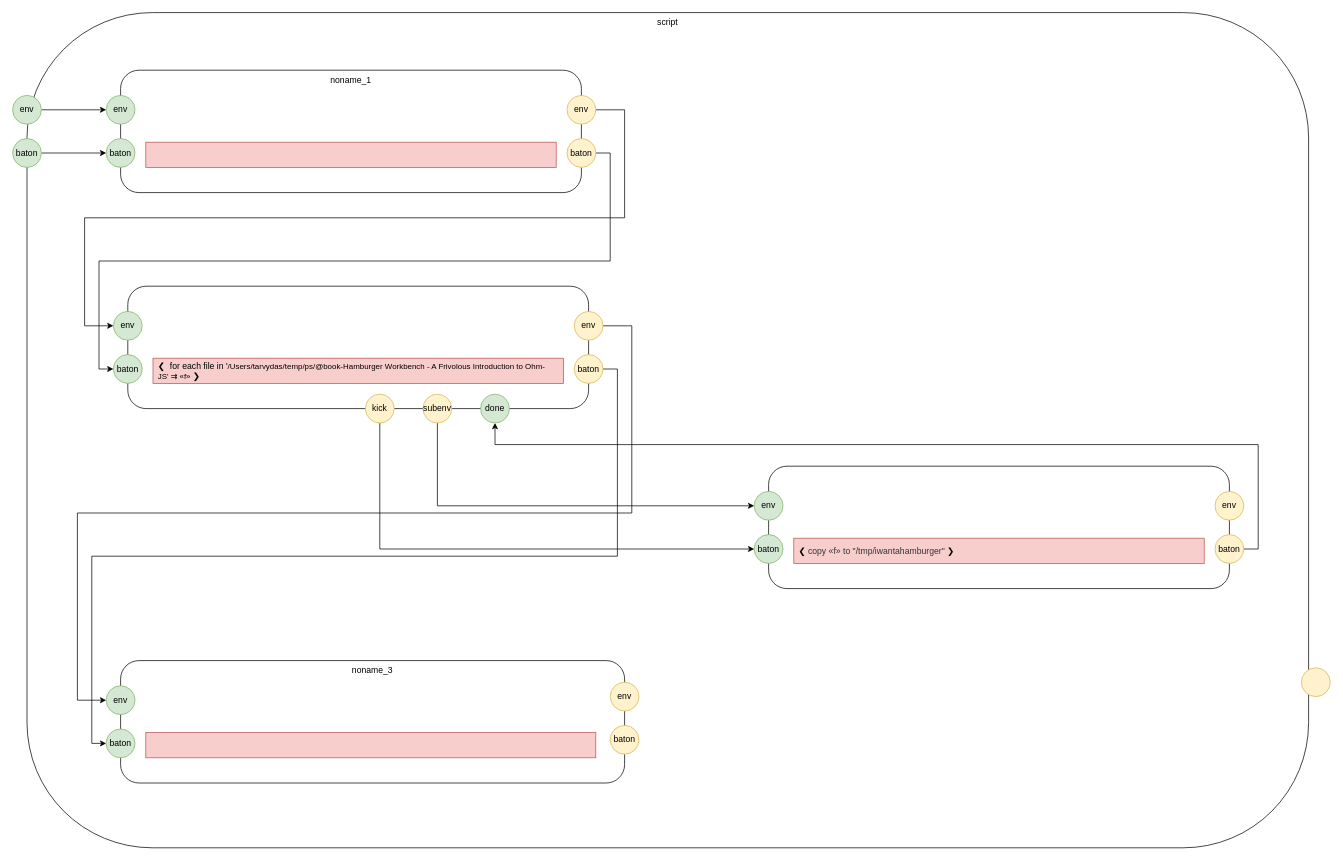
This 1343x860 diagram has some shape labels left out. Each missing label, with the box of its shape:
noname_0: (127, 285, 589, 409)
noname_2: (768, 465, 1229, 589)
out: (1301, 667, 1330, 697)
❮ delete all files in "/tmp/iwantahamburger" ❯: (145, 141, 556, 167)
❮ rename "/tmp/iwantahamburger/hw_book.md" "/tmp/iwantahamburger/book.md" ❯: (145, 732, 596, 758)
